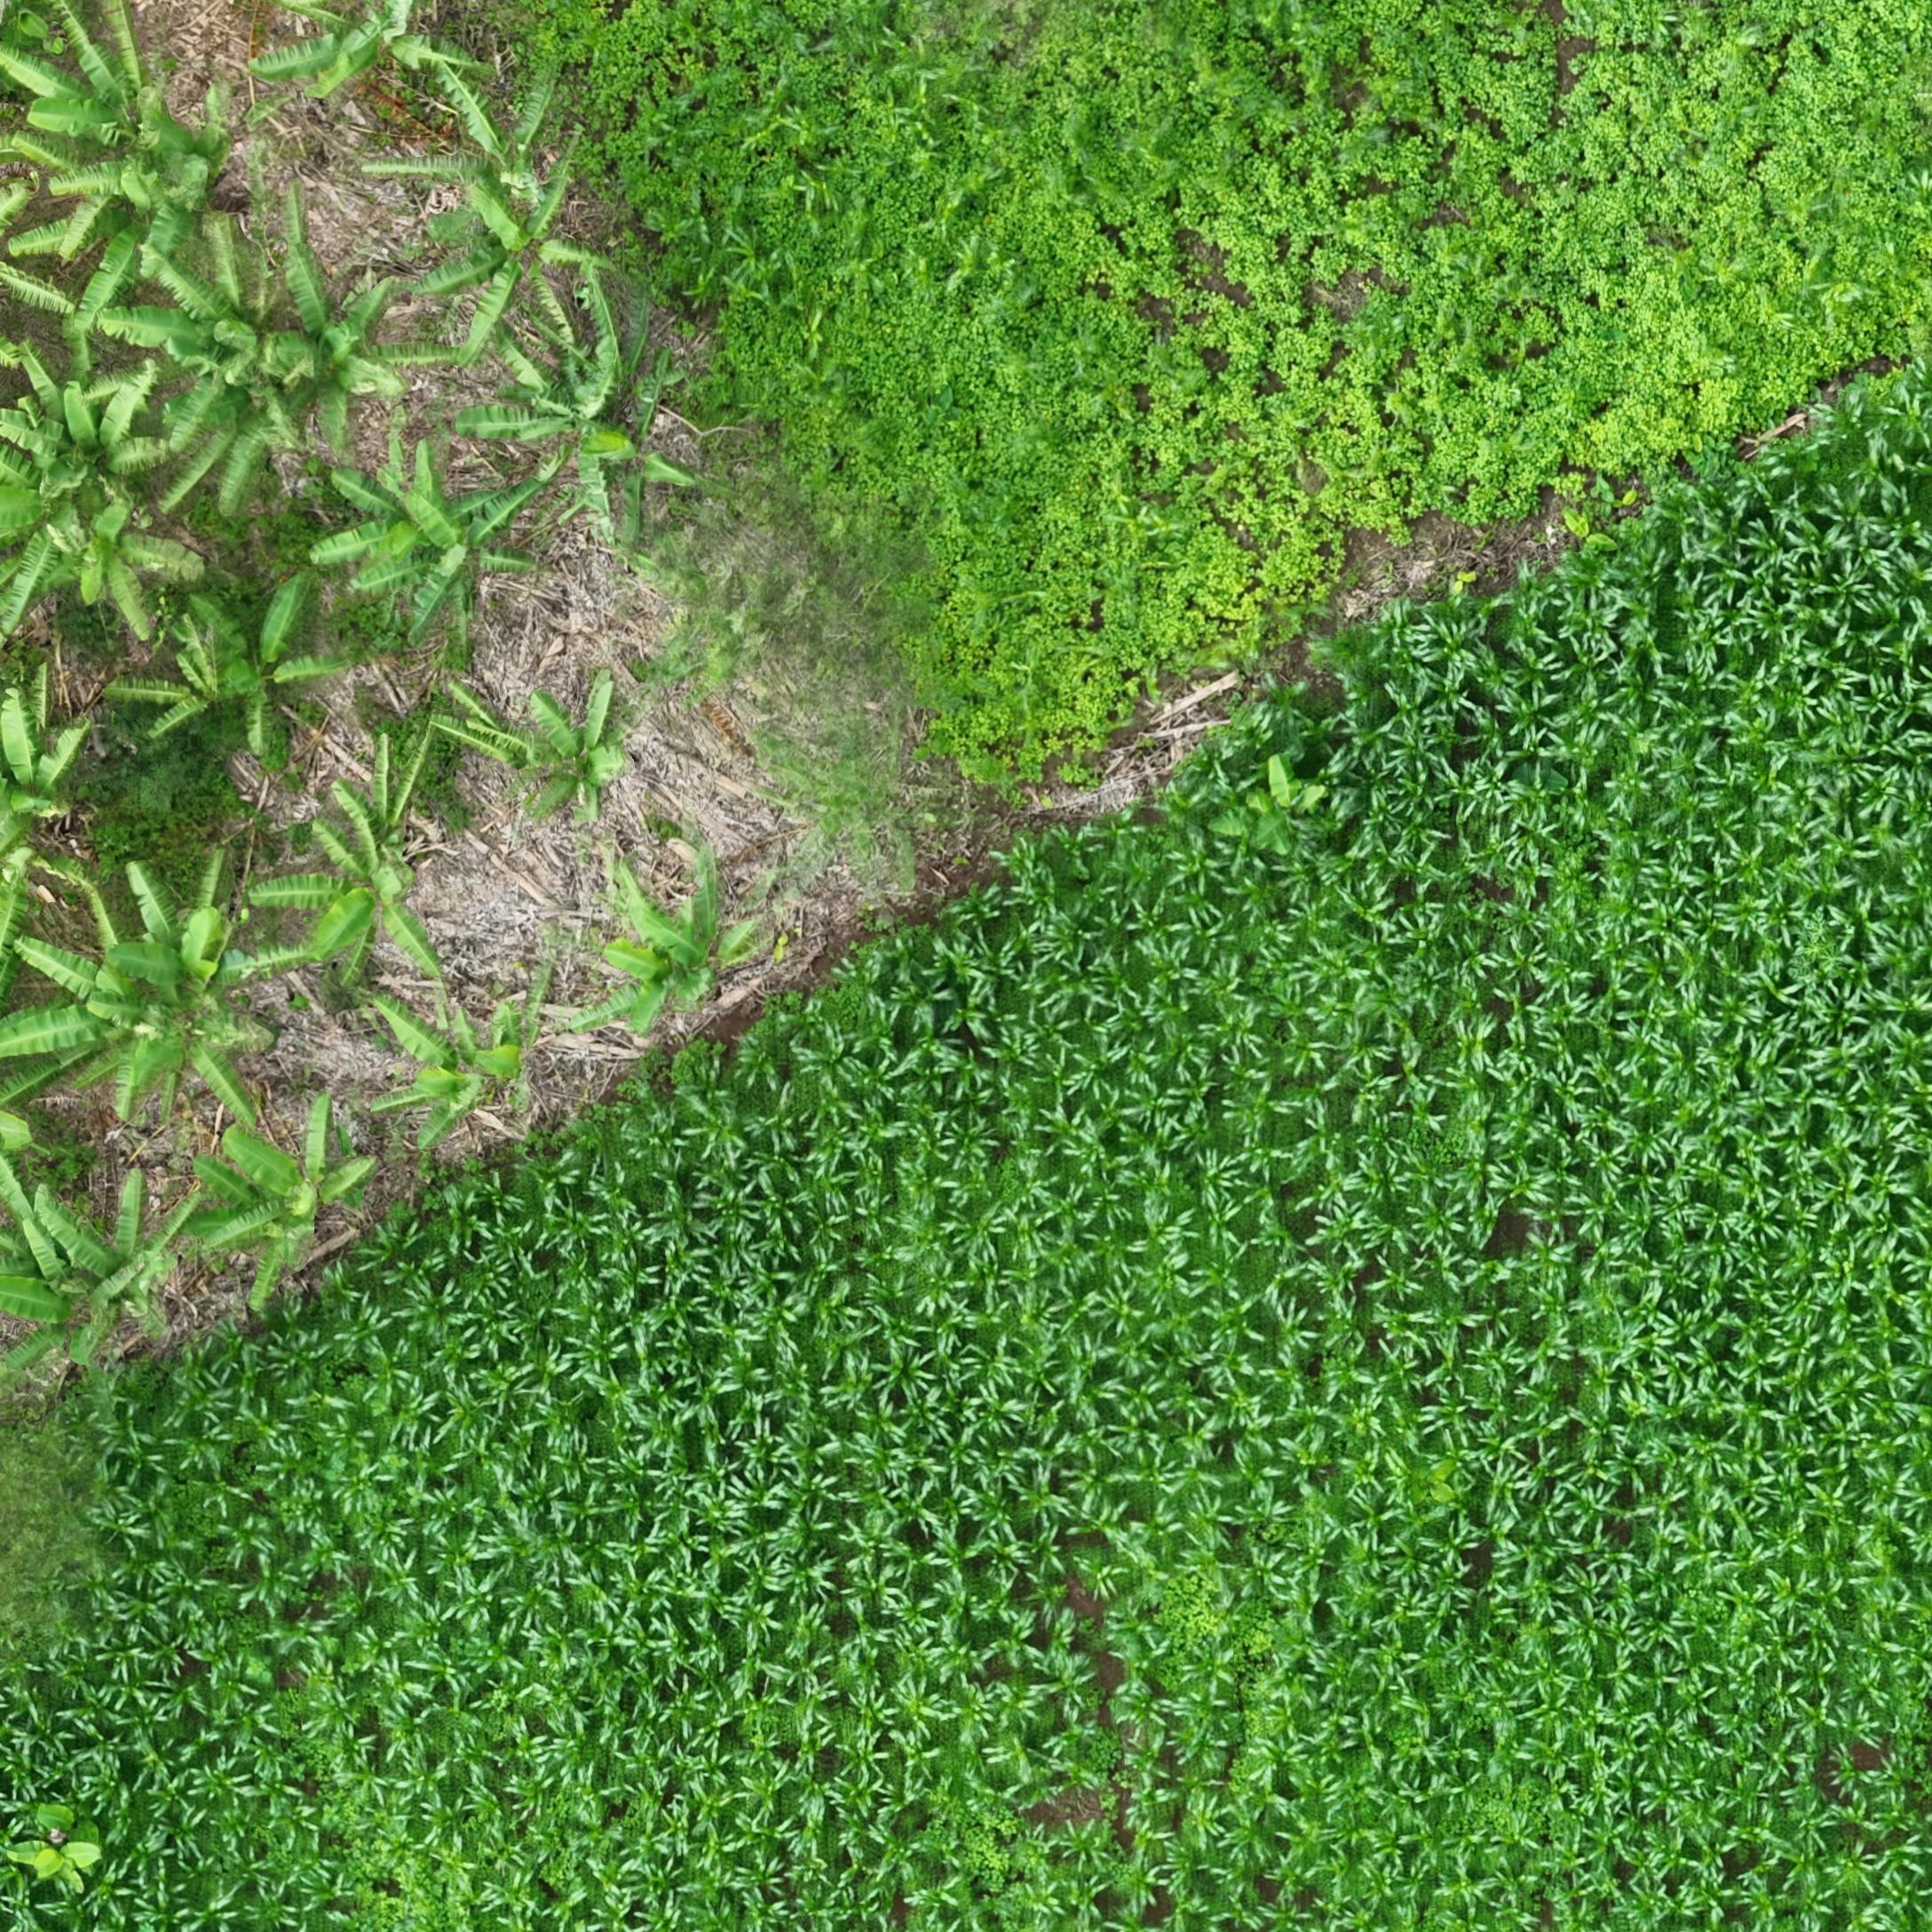Banana: (12, 924, 288, 1177), (122, 248, 317, 474), (267, 837, 481, 1040), (432, 191, 655, 364), (616, 885, 801, 1079), (186, 612, 364, 803), (425, 458, 571, 688), (4, 7, 184, 180), (5, 364, 196, 524), (276, 264, 416, 458), (386, 1021, 525, 1203), (258, 2, 517, 99), (327, 469, 501, 612), (492, 980, 614, 1180), (2, 697, 106, 922), (524, 711, 679, 862), (53, 527, 218, 649), (108, 658, 262, 784), (1270, 782, 1380, 888), (5, 1879, 115, 1932)
